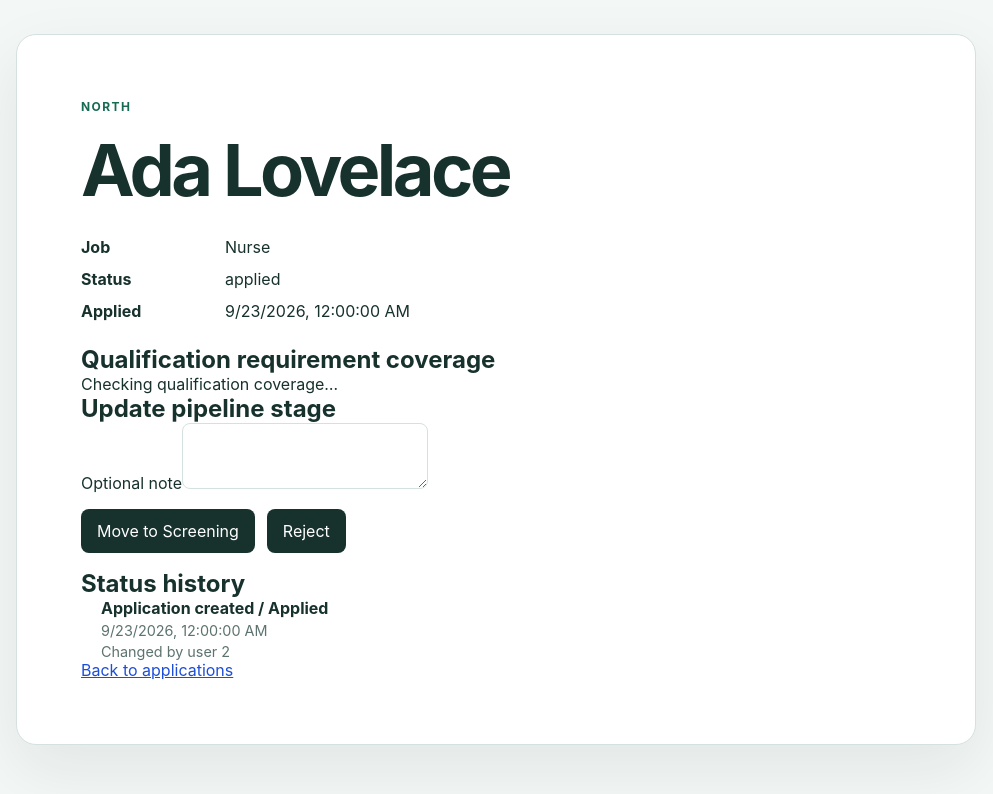
Test: ApplicationDetail › submits the optional note and adopts server status and refreshed history
Type "Passed review" into the text box labelled "Optional note" at (305, 456), box x1=182 y1=422 x2=428 y2=488
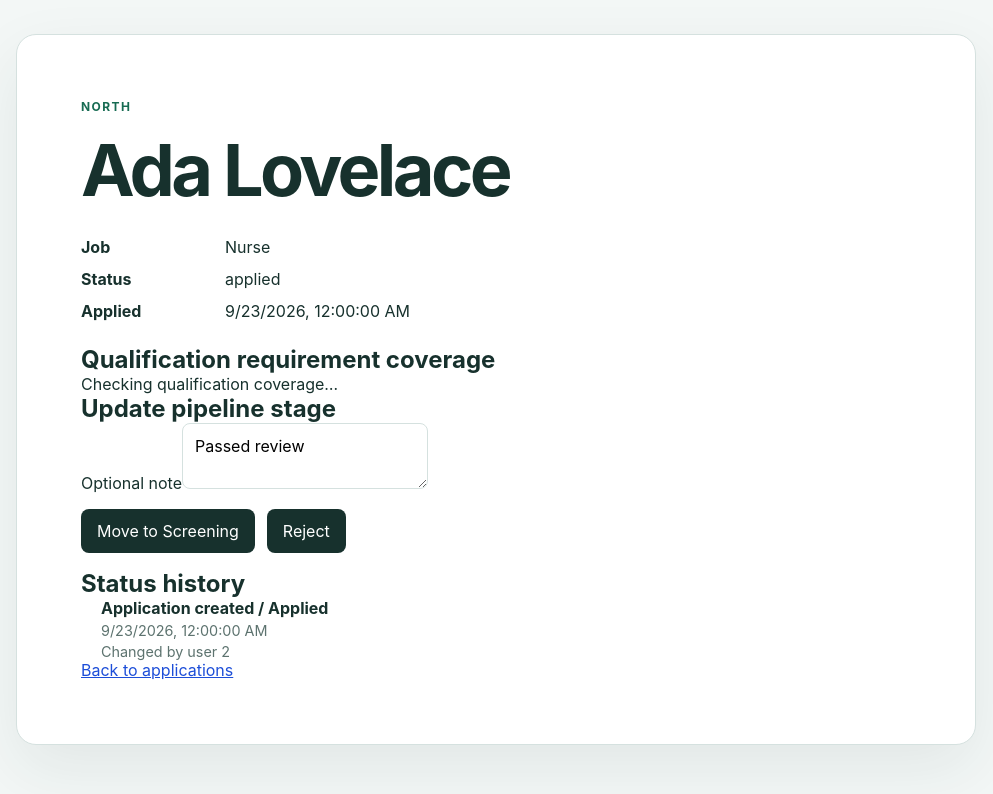
Click the button "Move to Screening" at (168, 530), box x1=81 y1=508 x2=255 y2=552
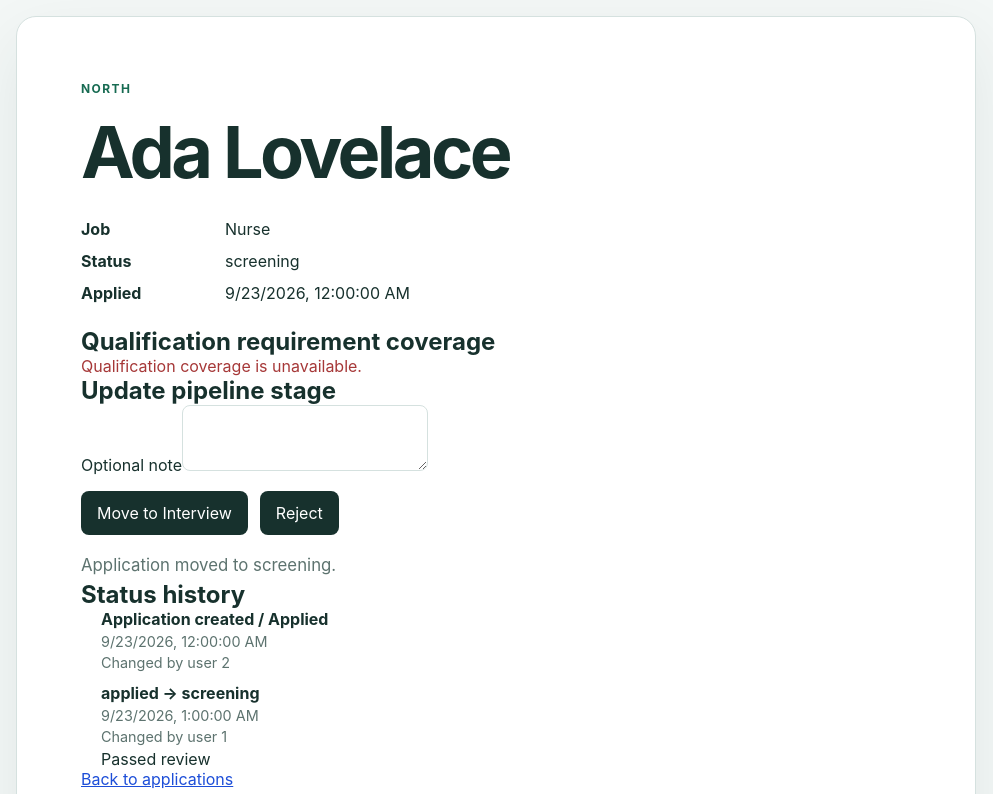
expect the text "applied → screening" is shown: met, box x1=101 y1=682 x2=260 y2=702
expect the text "Passed review" is shown: met, box x1=101 y1=748 x2=210 y2=768
expect the text "Application moved to screening." is shown: met, box x1=81 y1=555 x2=336 y2=575
